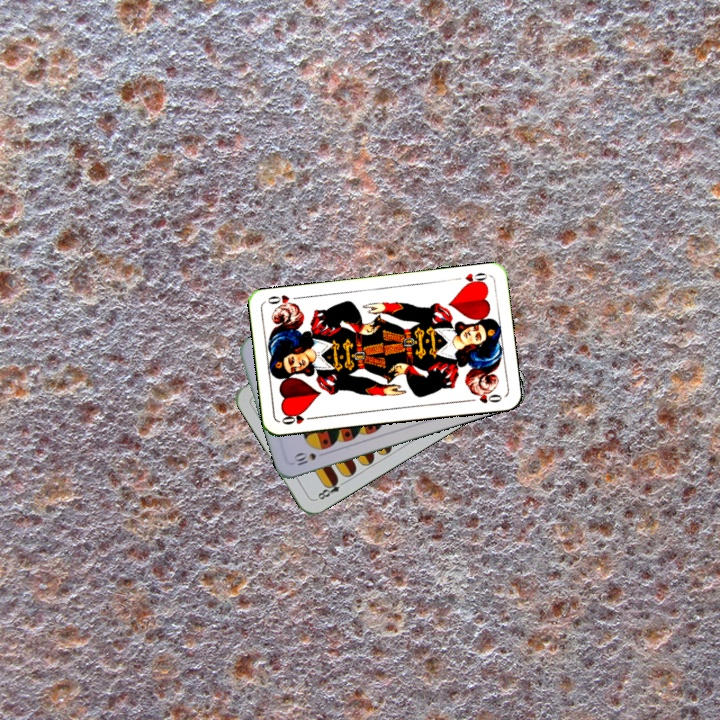E8: (312, 474, 349, 503)
HO: (277, 409, 317, 427), (460, 269, 490, 289)
S10: (289, 448, 319, 468)
